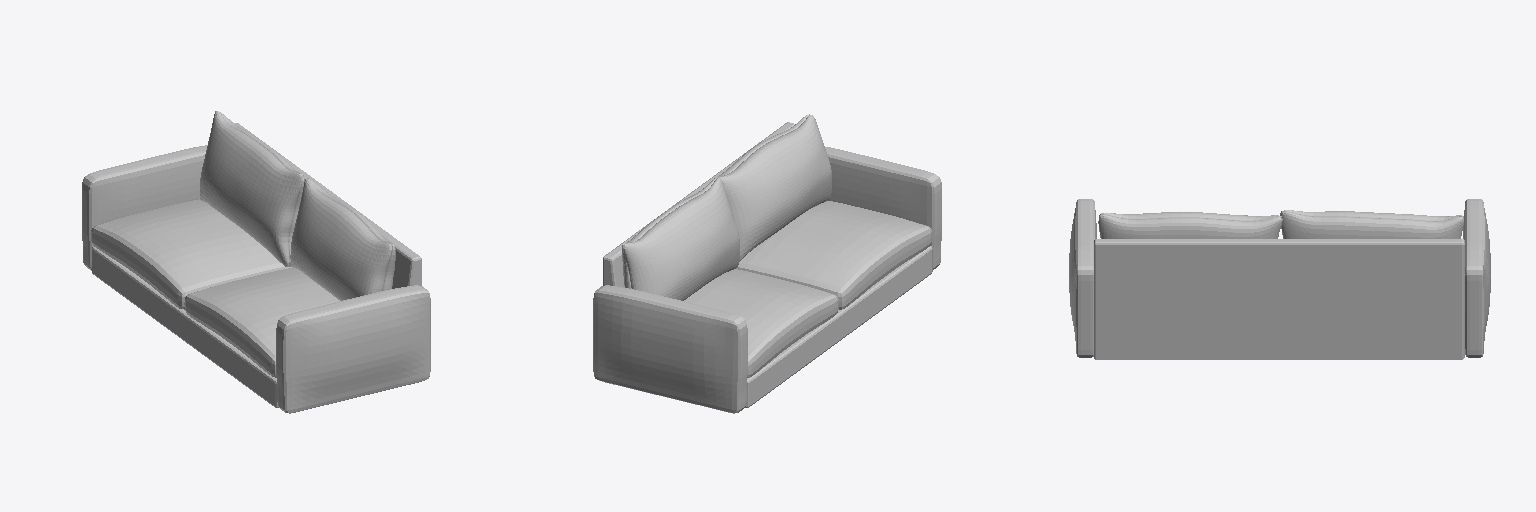
File: couch.obj
3 renders of one model, left to right at view 1: azimuth 30°, elevation 25°; view 2: azimuth 150°, elevation 25°; view 3: azimuth 270°, elevation 25°, orthographic.
Visible parts, largest first — view 1: Cube.009; view 2: Cube.009; view 3: Cube.009.
Boxes of the visible parts, x1=… form: Cube.009: x1=82, y1=111, x2=430, y2=413; Cube.009: x1=593, y1=114, x2=941, y2=413; Cube.009: x1=1069, y1=199, x2=1490, y2=359.
Bounding box in the file's own units: 0.8296 × 0.7359 × 2.04.